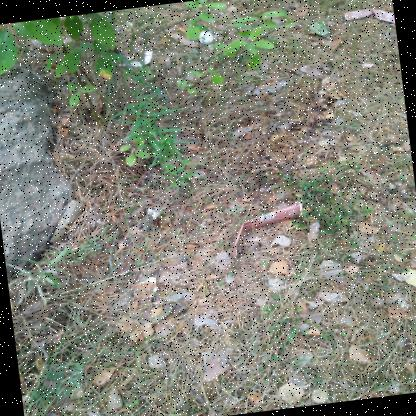Meal carton: (229, 202, 301, 258), (344, 8, 395, 23)
Unlabeled litter: (118, 51, 151, 67)
